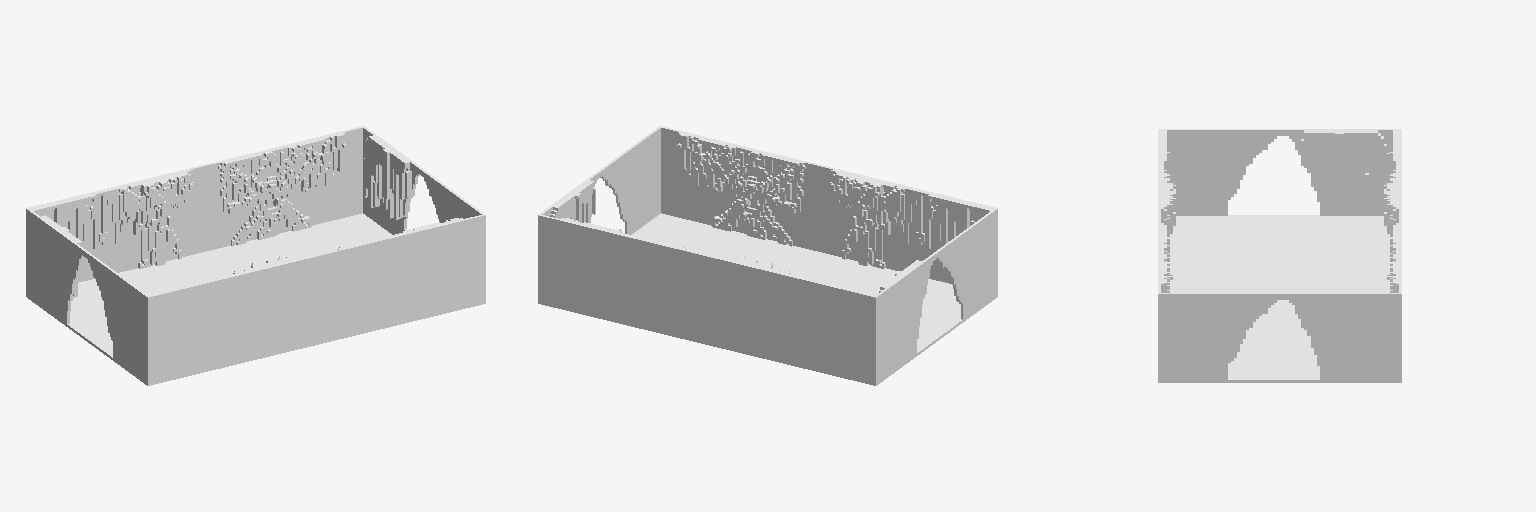
The model's file is forest_room.vox.obj.
3 views of the same model, side by side, from view 1: azimuth 30°, elevation 25°; view 2: azimuth 150°, elevation 25°; view 3: azimuth 270°, elevation 25° (orthographic).
Visible parts, largest first — view 1: object 1; view 2: object 1; view 3: object 1.
Boxes of the visible parts, box(x1,y1,x2,y2) form: object 1: box(26, 126, 485, 385); object 1: box(538, 126, 997, 385); object 1: box(1158, 129, 1401, 382).
Bounding box in the file's own units: 12.8 × 3.2 × 8.